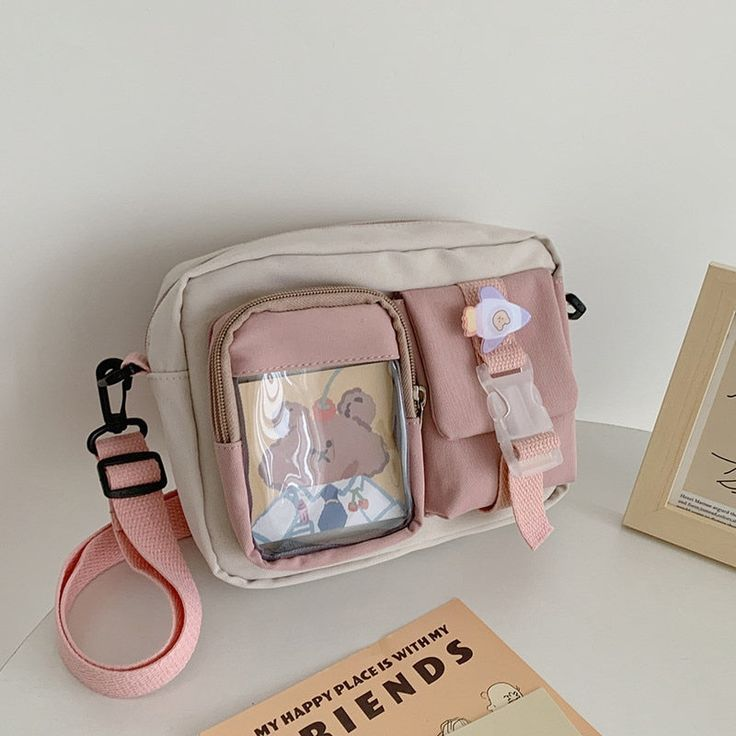nylon: (55, 218, 578, 697)
